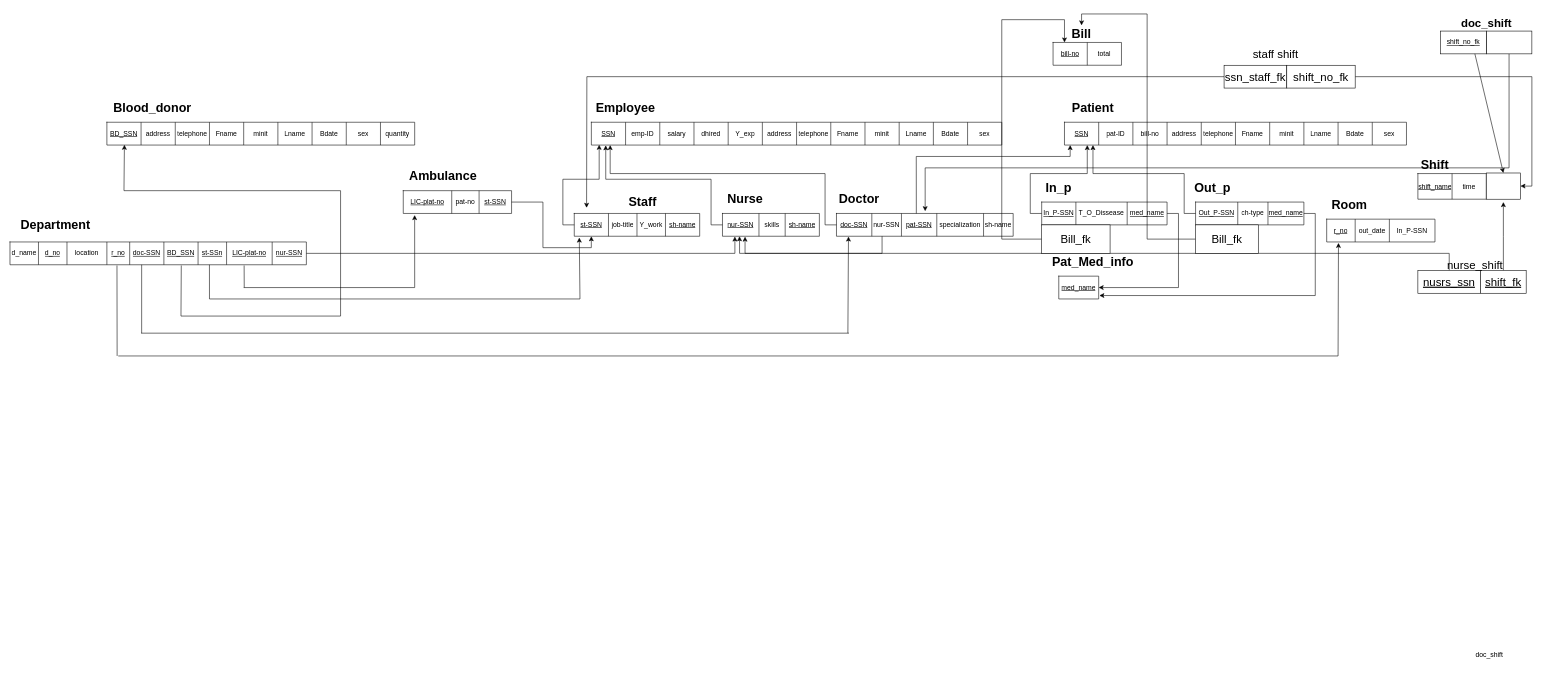
Image size: 1546x674. Some labels were removed from this diagram. The shapes that lost their labels are listed below. From the top down, each one's centre as x and y in pixels, then its label:
At [1509,42]: "doc_ssn_fk".
At [1503,185]: "shift_no".
